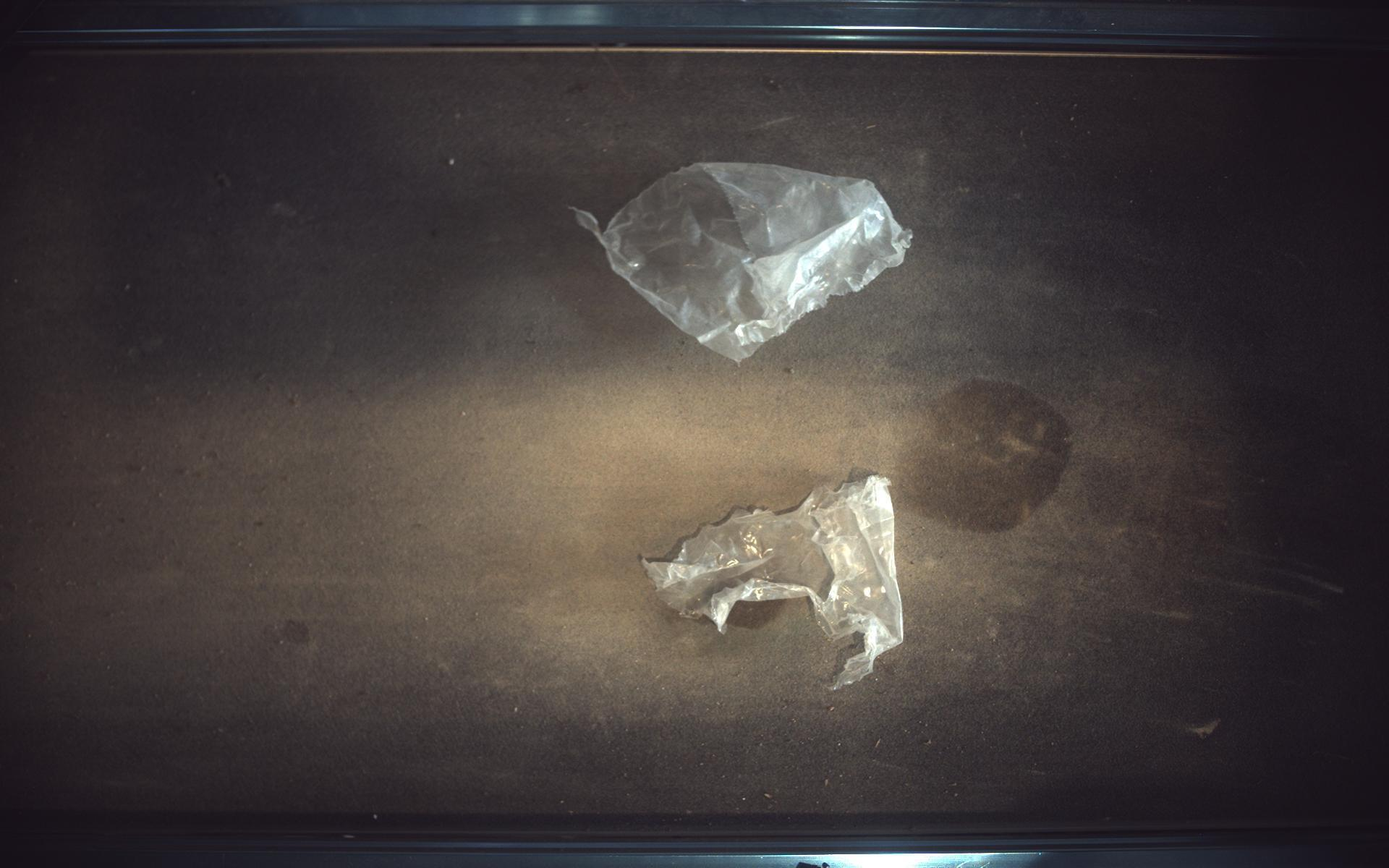general_w: (572, 162, 913, 360), (643, 475, 905, 690)
